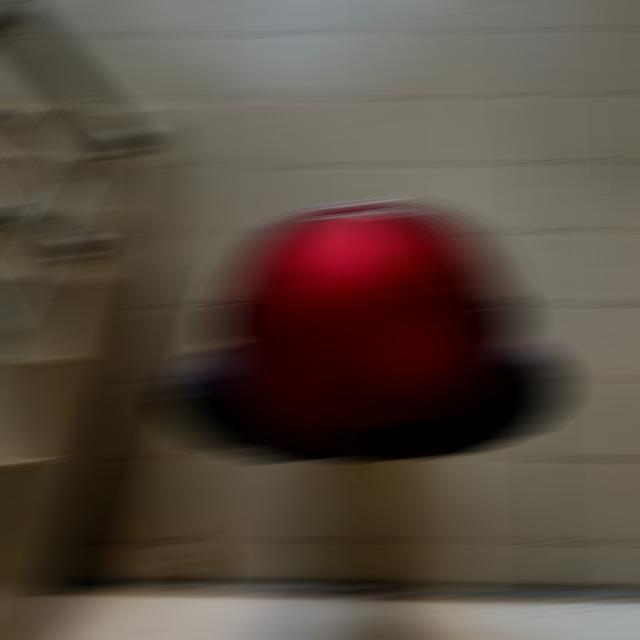With Helmet: (209, 198, 526, 463)
